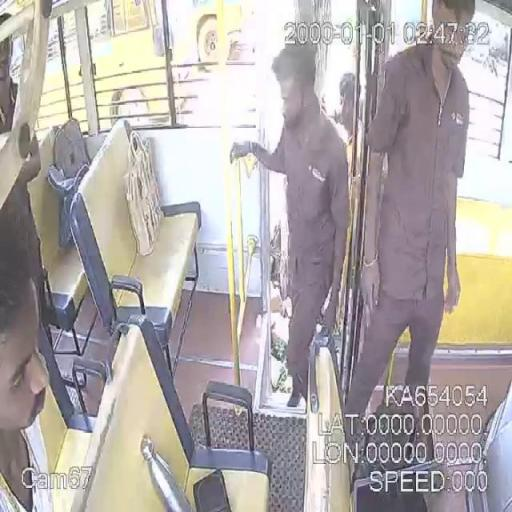persona: (342, 0, 476, 472), (229, 40, 351, 410)
